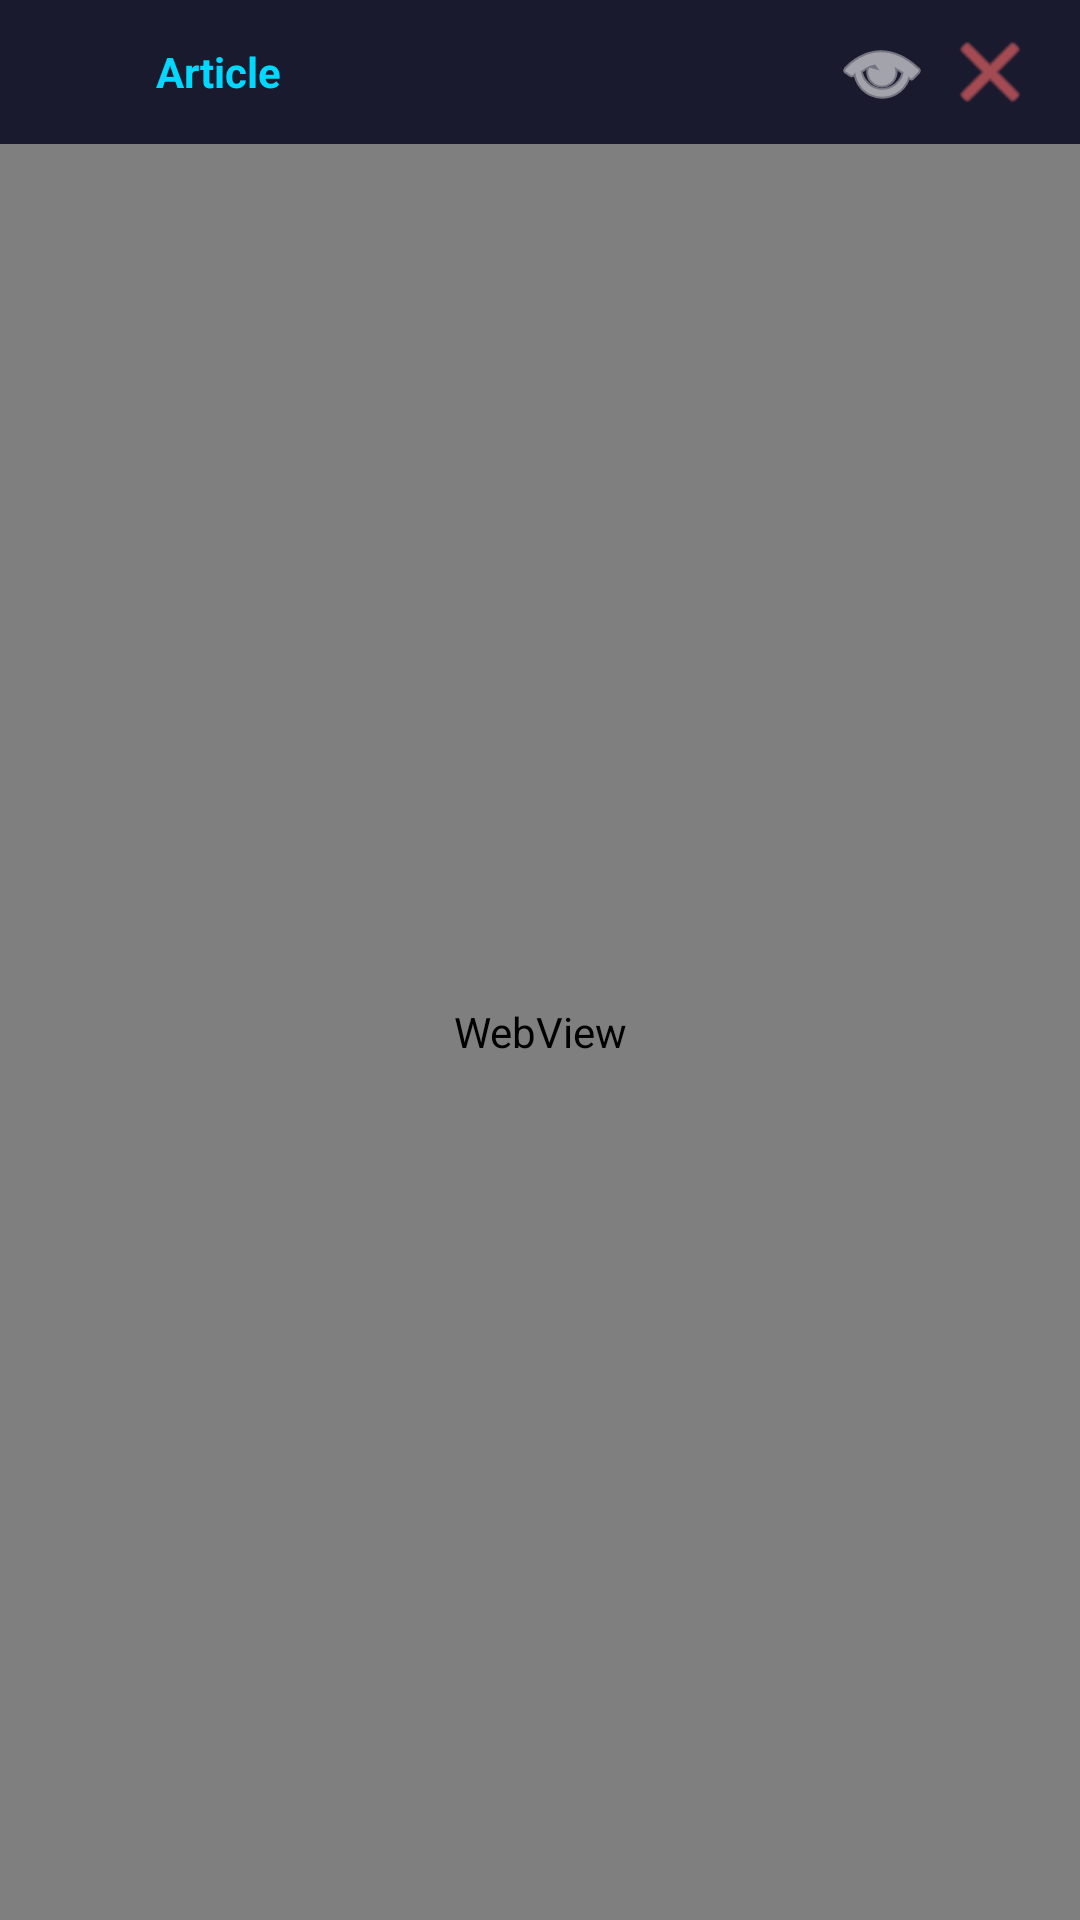

Icons on this 1080x1920 Android screen, each with its box as [x1=x1, y1=y1, x2=x2, y2=y2]:
Close: [x1=960, y1=42, x2=1020, y2=102]
